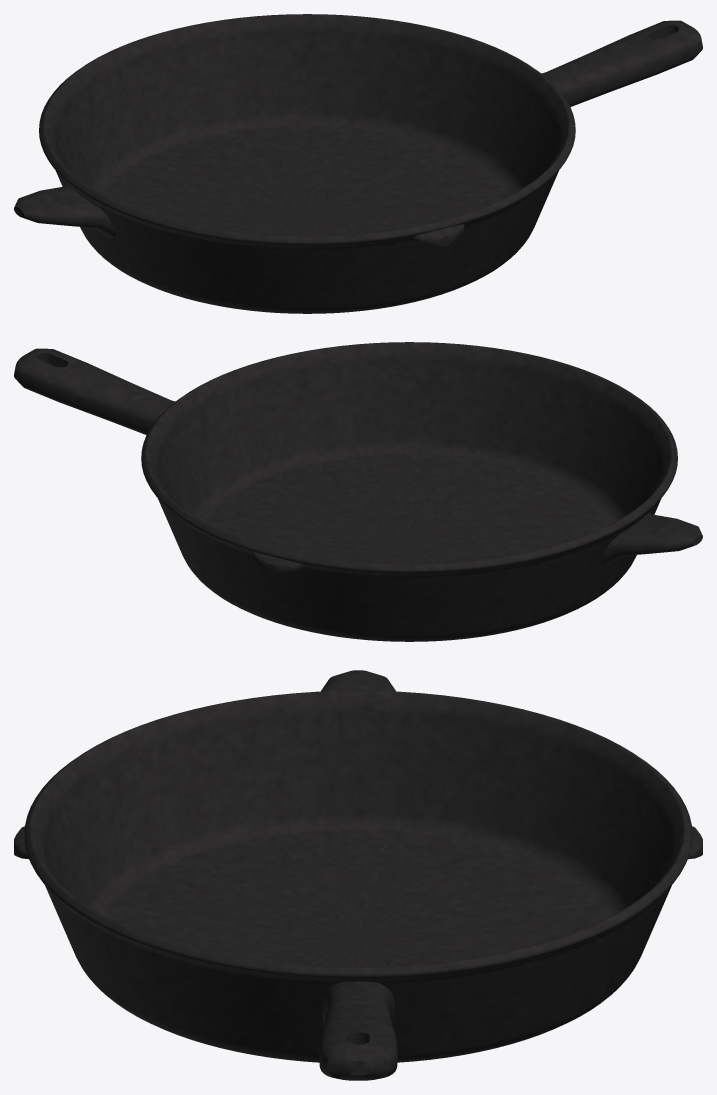
File: source.glb
3 renders of one model, top to bottom at view 1: azimuth 30°, elevation 25°; view 2: azimuth 150°, elevation 25°; view 3: azimuth 270°, elevation 25°, orthographic. The views are drawn at different scales.
Visible parts, largest first — view 1: Skillet body, seasoned cast iron, Skillet handle, seasoned cast iron, Helper handle, seasoned cast iron, Pour spout, front; view 2: Skillet body, seasoned cast iron, Skillet handle, seasoned cast iron, Helper handle, seasoned cast iron, Pour spout, back; view 3: Skillet body, seasoned cast iron, Skillet handle, seasoned cast iron, Helper handle, seasoned cast iron.
Boxes of the visible parts, left/top/right/bottom form: Skillet body, seasoned cast iron: left=39, top=14, right=575, bottom=313; Skillet handle, seasoned cast iron: left=541, top=20, right=702, bottom=106; Helper handle, seasoned cast iron: left=14, top=185, right=116, bottom=238; Pour spout, front: left=412, top=224, right=464, bottom=246; Skillet body, seasoned cast iron: left=141, top=342, right=677, bottom=641; Skillet handle, seasoned cast iron: left=14, top=348, right=175, bottom=434; Helper handle, seasoned cast iron: left=600, top=513, right=702, bottom=566; Pour spout, back: left=252, top=552, right=304, bottom=574; Skillet body, seasoned cast iron: left=24, top=690, right=692, bottom=1062; Skillet handle, seasoned cast iron: left=319, top=981, right=397, bottom=1080; Helper handle, seasoned cast iron: left=321, top=670, right=395, bottom=691.
Bounding box in the file's own units: 0.3858 × 0.0578 × 0.273.
Materials: 1 (1 with a texture image).
